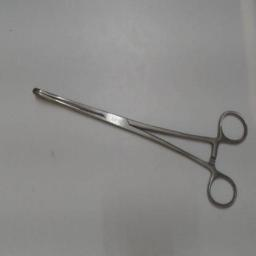Sponge Forceps: (27, 84, 249, 216)
